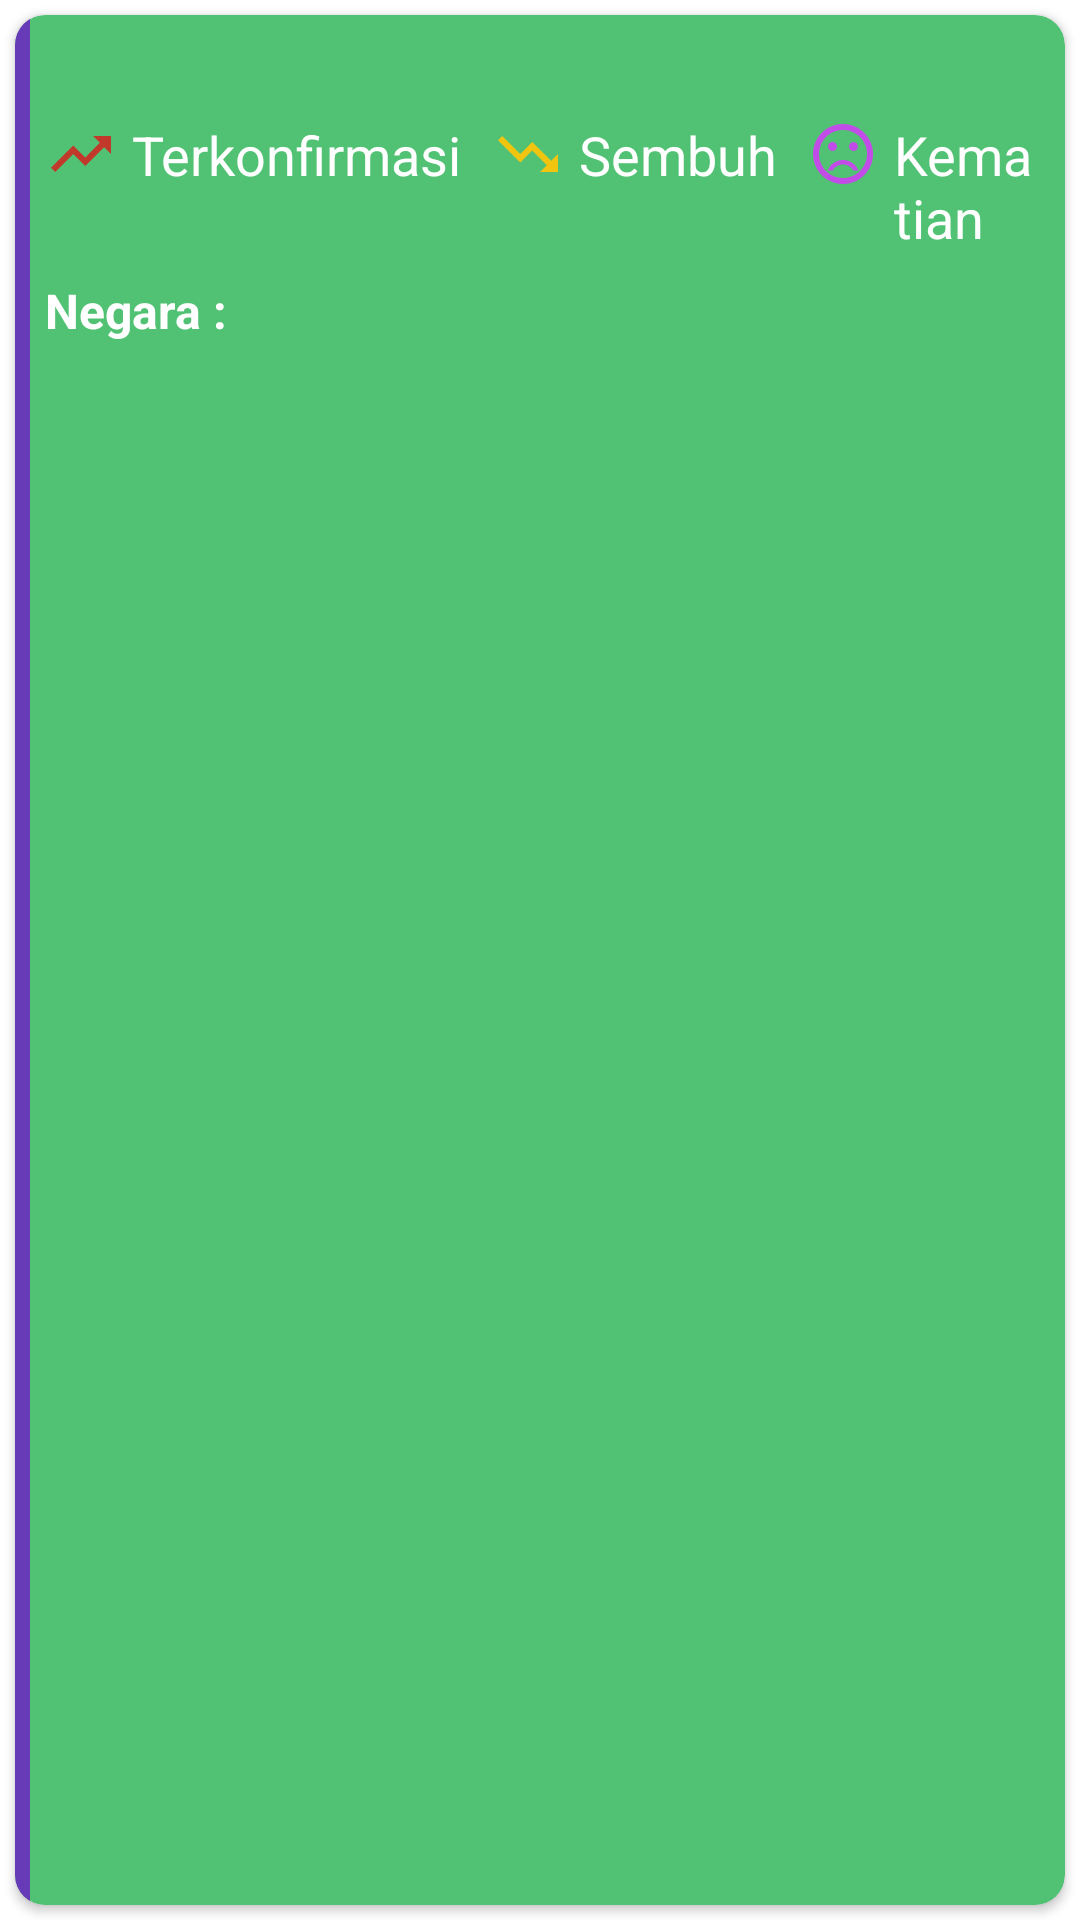

Icons on this 1080*1920 Android screen, each with its box as bbox=(x1, y1, x2, y2):
trending down: bbox=(498, 136, 558, 172)
trending up: bbox=(51, 136, 111, 172)
